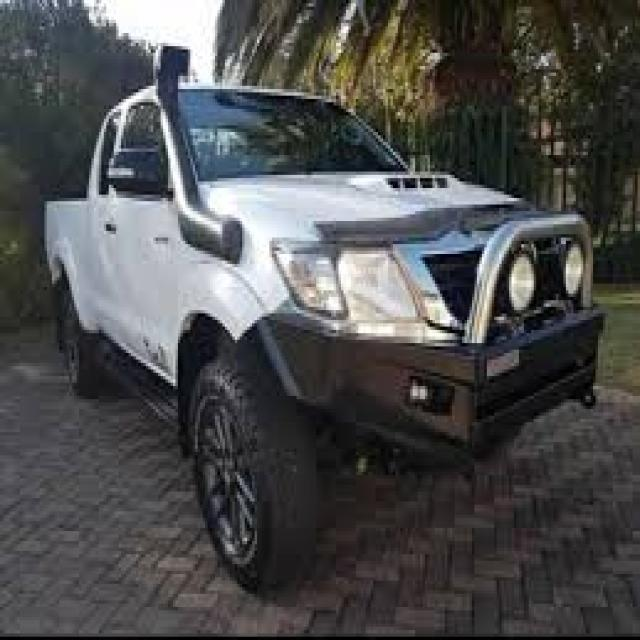Pickup Trucks: (44, 82, 596, 590)
